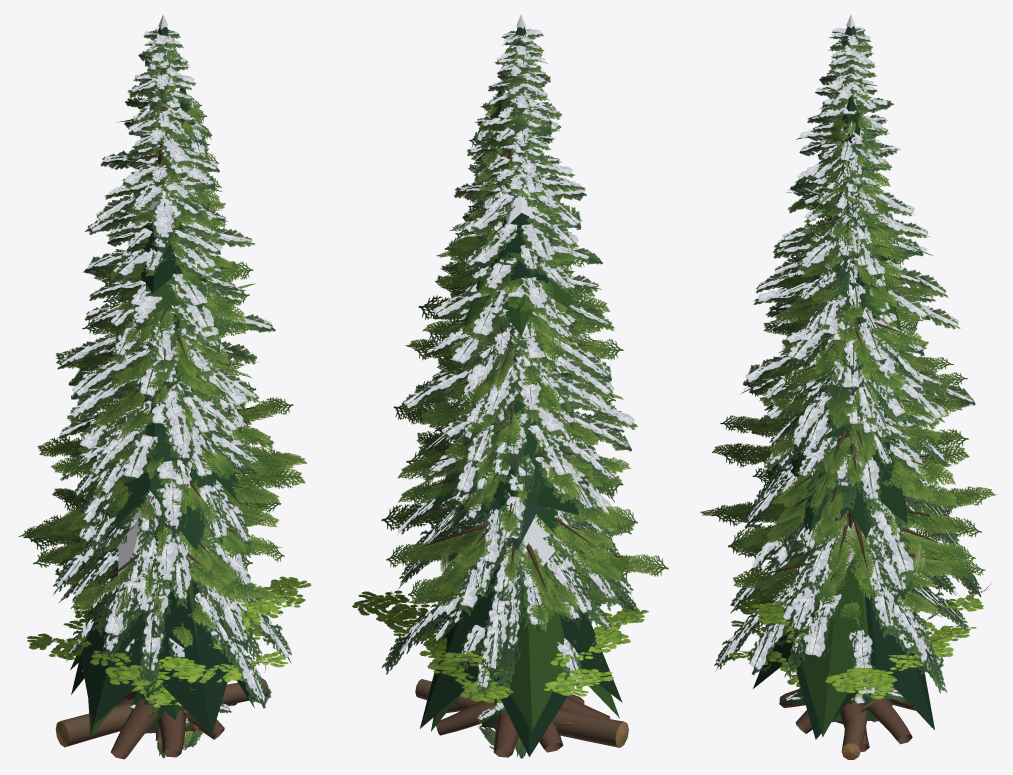
The model's file is forest.glb.
The picture shows the model from 3 angles, left to right: view 1: azimuth 30°, elevation 25°; view 2: azimuth 150°, elevation 25°; view 3: azimuth 270°, elevation 25°; orthographic projection.
Parts seen in each view (by area): view 1: fir_snow, cedar, fir, hemlock_snow, hemlock, hemlock_lod, cedar_lod, vine_maple, vine_maple_lod, log, fir_snow_lod, hemlock_snow_lod (+1 smaller); view 2: cedar, fir_snow, fir, hemlock_snow, hemlock, cedar_lod, hemlock_lod, vine_maple, vine_maple_lod, log, fir_snow_lod, hemlock_snow_lod (+1 smaller); view 3: cedar, hemlock_snow, fir_snow, hemlock, fir, cedar_lod, hemlock_lod, vine_maple, vine_maple_lod, log, hemlock_snow_lod.
Part boxes in pixels (bbox=[...]): fir_snow: bbox=[58, 28, 274, 756]; cedar: bbox=[18, 100, 307, 759]; fir: bbox=[57, 29, 275, 757]; hemlock_snow: bbox=[53, 121, 291, 749]; hemlock: bbox=[53, 122, 291, 749]; hemlock_lod: bbox=[71, 106, 254, 735]; cedar_lod: bbox=[70, 87, 247, 736]; vine_maple: bbox=[27, 576, 311, 707]; vine_maple_lod: bbox=[63, 578, 299, 705]; log: bbox=[55, 678, 268, 747]; fir_snow_lod: bbox=[125, 14, 207, 420]; hemlock_snow_lod: bbox=[117, 101, 206, 591]; cedar: bbox=[381, 102, 668, 757]; fir_snow: bbox=[401, 28, 637, 756]; fir: bbox=[401, 30, 637, 758]; hemlock_snow: bbox=[382, 126, 637, 749]; hemlock: bbox=[382, 127, 637, 749]; cedar_lod: bbox=[431, 89, 619, 731]; hemlock_lod: bbox=[420, 114, 622, 756]; vine_maple: bbox=[352, 585, 618, 703]; vine_maple_lod: bbox=[359, 593, 648, 676]; log: bbox=[415, 679, 628, 747]; fir_snow_lod: bbox=[490, 14, 571, 432]; hemlock_snow_lod: bbox=[453, 106, 583, 589]; cedar: bbox=[700, 111, 997, 751]; hemlock_snow: bbox=[716, 140, 981, 700]; fir_snow: bbox=[742, 27, 974, 491]; hemlock: bbox=[714, 140, 981, 701]; fir: bbox=[741, 28, 975, 722]; cedar_lod: bbox=[789, 95, 931, 737]; hemlock_lod: bbox=[753, 133, 934, 739]; vine_maple: bbox=[731, 592, 976, 700]; vine_maple_lod: bbox=[729, 583, 991, 691]; log: bbox=[841, 694, 880, 759]; hemlock_snow_lod: bbox=[779, 121, 902, 579].
Bounding box in the file's own units: 12.67 × 31.75 × 11.78.
18 materials, 10 textured.
